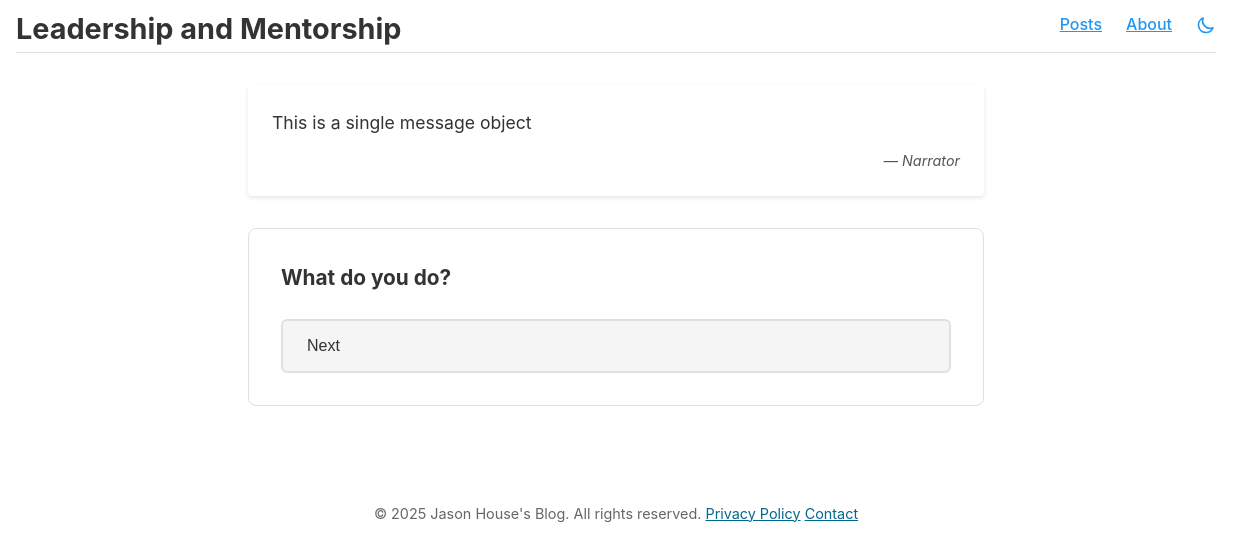
Story Message Format Handling › handles singular message as a single object
Expected: the text "This is a single message object" is shown, [272,112,532,133]
# Navigate to test the navigate function's message handling
Click the button "Next" at x=323, y=345, box [281,318,951,372]
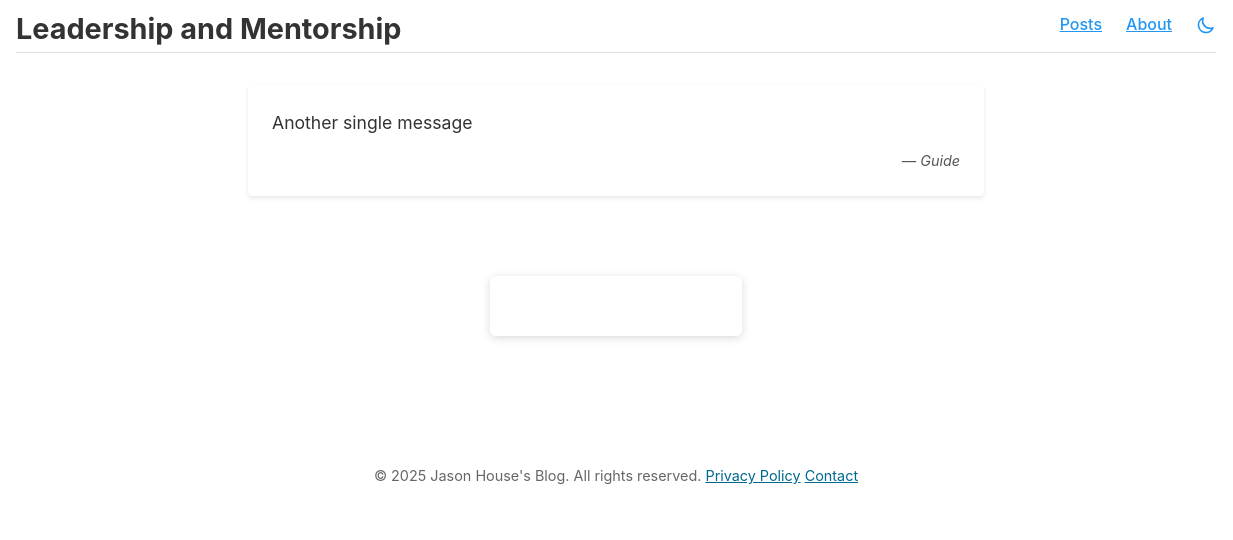
Now the text "Another single message" is shown, box [272,112,472,133]
